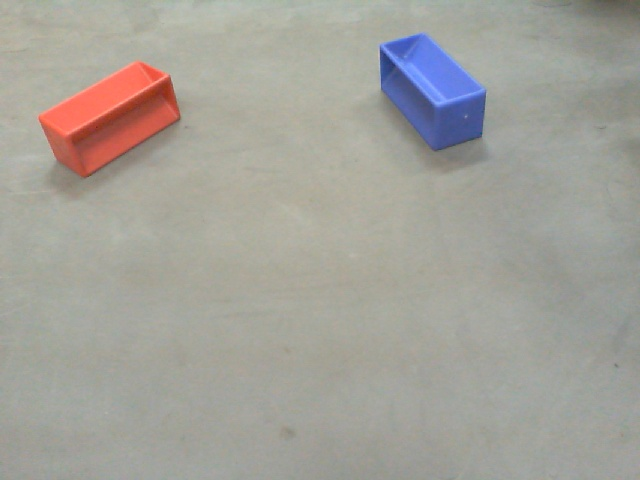BlueSample: (370, 27, 487, 151)
RedSample: (35, 60, 181, 178)
